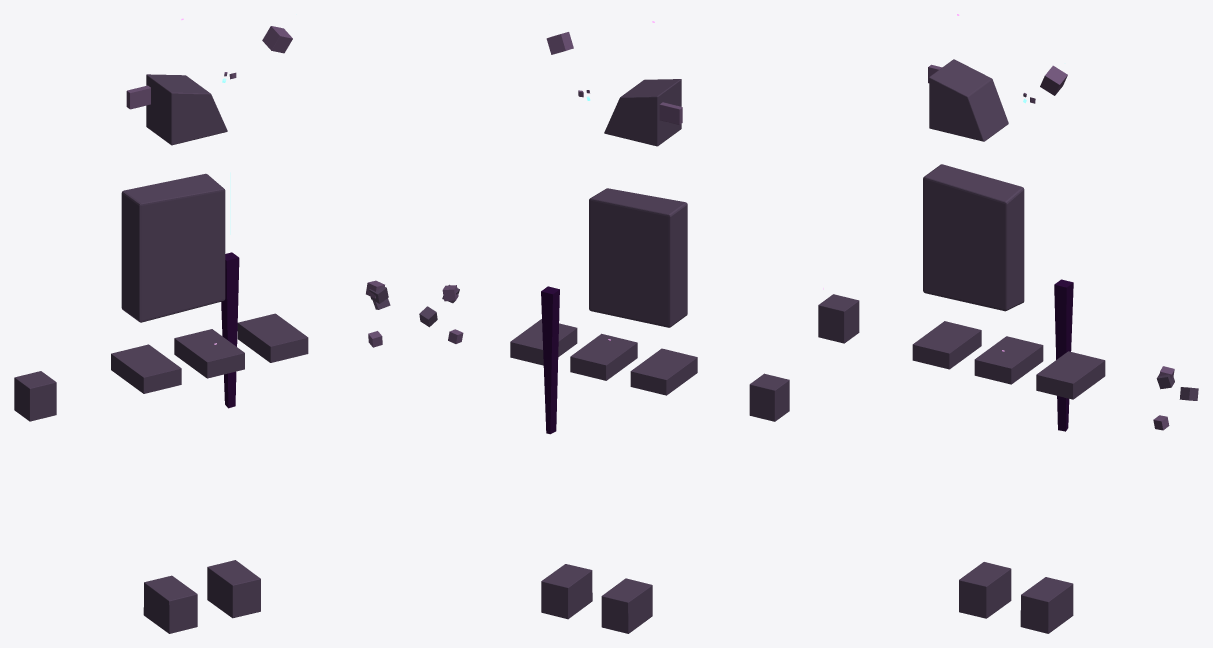
File: outfit_glitch.glb
3 renders of one model, left to right at view 1: azimuth 30°, elevation 25°; view 2: azimuth 150°, elevation 25°; view 3: azimuth 330°, elevation 25°, orthographic. The views are drawn at different scales.
Visible parts, largest first — view 1: outfit_glitch_chest_plate, outfit_glitch, outfit_glitch_head_mask, outfit_glitch_boot_L, outfit_glitch_boot_R, outfit_glitch_glove_L, outfit_glitch_back_tendril, outfit_glitch_head_fragment; view 2: outfit_glitch_chest_plate, outfit_glitch, outfit_glitch_head_mask, outfit_glitch_boot_R, outfit_glitch_boot_L, outfit_glitch_back_tendril, outfit_glitch_glove_L; view 3: outfit_glitch_chest_plate, outfit_glitch, outfit_glitch_head_mask, outfit_glitch_boot_R, outfit_glitch_boot_L, outfit_glitch_glove_L, outfit_glitch_back_tendril.
Part boxes in pixels (bbox=[...]): outfit_glitch_chest_plate: bbox=[121, 173, 225, 322]; outfit_glitch: bbox=[111, 280, 390, 393]; outfit_glitch_head_mask: bbox=[146, 74, 227, 145]; outfit_glitch_boot_L: bbox=[143, 575, 197, 633]; outfit_glitch_boot_R: bbox=[207, 560, 260, 618]; outfit_glitch_glove_L: bbox=[14, 371, 56, 421]; outfit_glitch_back_tendril: bbox=[221, 252, 239, 408]; outfit_glitch_head_fragment: bbox=[262, 26, 292, 53]; outfit_glitch_chest_plate: bbox=[589, 188, 687, 327]; outfit_glitch: bbox=[419, 284, 697, 395]; outfit_glitch_head_mask: bbox=[604, 79, 681, 146]; outfit_glitch_boot_R: bbox=[541, 564, 592, 619]; outfit_glitch_boot_L: bbox=[601, 578, 652, 633]; outfit_glitch_back_tendril: bbox=[541, 286, 559, 434]; outfit_glitch_glove_L: bbox=[749, 373, 789, 421]; outfit_glitch_chest_plate: bbox=[923, 164, 1024, 311]; outfit_glitch: bbox=[912, 321, 1198, 430]; outfit_glitch_head_mask: bbox=[929, 59, 1008, 141]; outfit_glitch_boot_R: bbox=[1020, 577, 1073, 633]; outfit_glitch_boot_L: bbox=[959, 562, 1011, 618]; outfit_glitch_glove_L: bbox=[818, 294, 859, 343]; outfit_glitch_back_tendril: bbox=[1054, 279, 1073, 431].
Size of the model in its own units: 1.18 by 1.87 by 0.24.
